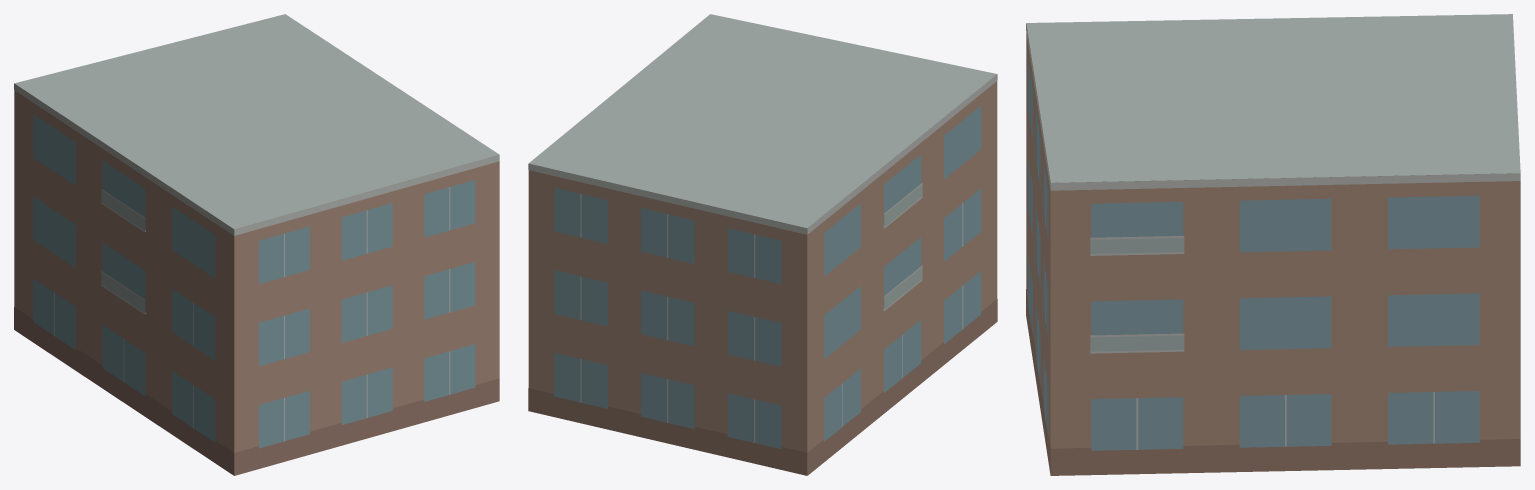
File: survey-upis-32927864.glb
The picture shows the model from 3 angles, left to right: view 1: azimuth 30°, elevation 25°; view 2: azimuth 150°, elevation 25°; view 3: azimuth 270°, elevation 25°; orthographic projection. The views are drawn at different scales.
Visible parts, largest first — view 1: survey-upis-32927864.tmp; view 2: survey-upis-32927864.tmp; view 3: survey-upis-32927864.tmp.
Part boxes in pixels (x1,y1,x2,y2): survey-upis-32927864.tmp: (14,14,499,475); survey-upis-32927864.tmp: (528,14,997,475); survey-upis-32927864.tmp: (1026,14,1520,475).
Bounding box in the file's own units: 11.32 × 9.15 × 14.
